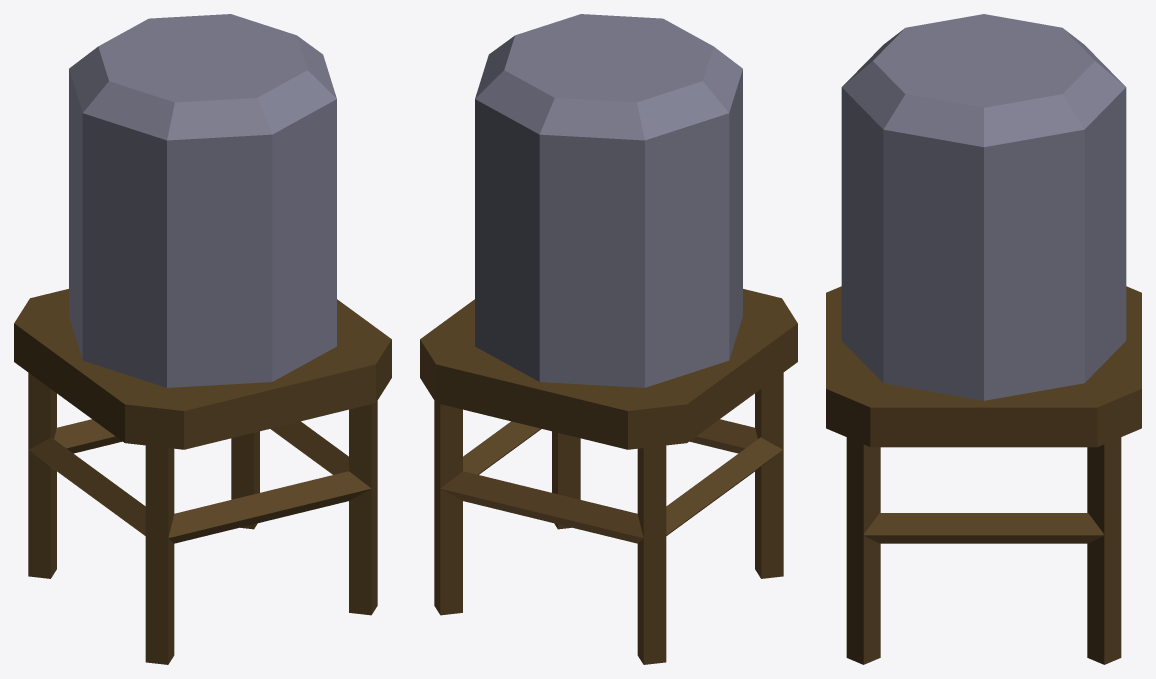
Rendered from decoration_0.fbx.
The picture shows the model from 3 angles, left to right: view 1: azimuth 30°, elevation 25°; view 2: azimuth 150°, elevation 25°; view 3: azimuth 270°, elevation 25°; orthographic projection. The views are drawn at different scales.
Visible parts, largest first — view 1: Decor; view 2: Decor; view 3: Decor.
Part boxes in pixels (x1=…): Decor: x1=14, y1=14, x2=391, y2=664; Decor: x1=420, y1=14, x2=797, y2=664; Decor: x1=826, y1=14, x2=1141, y2=664.
Size of the model in its own units: 105 by 200 by 105.
Materials: 1 (1 with a texture image).
